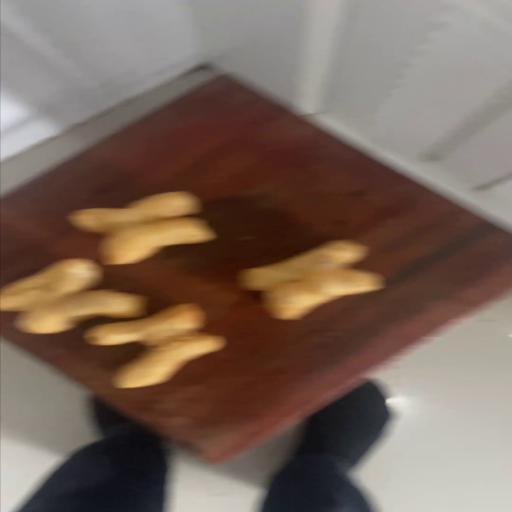street_golden_good: (70, 193, 215, 264)
